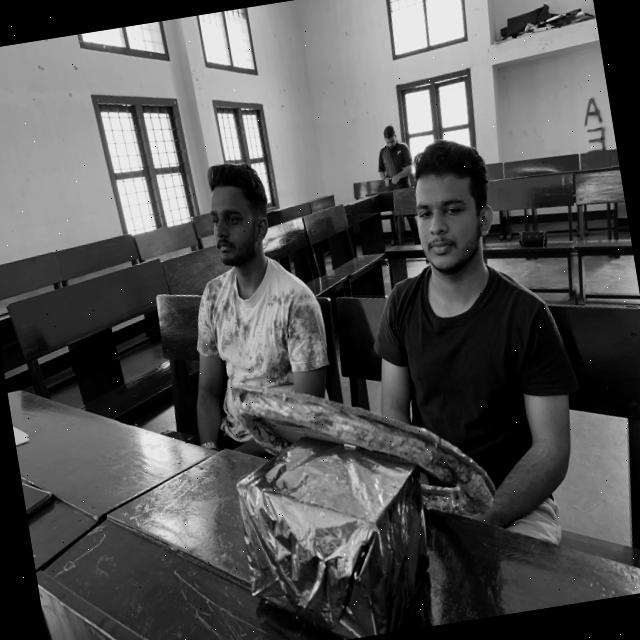Helmet: (356, 252, 600, 554), (168, 248, 348, 468)
